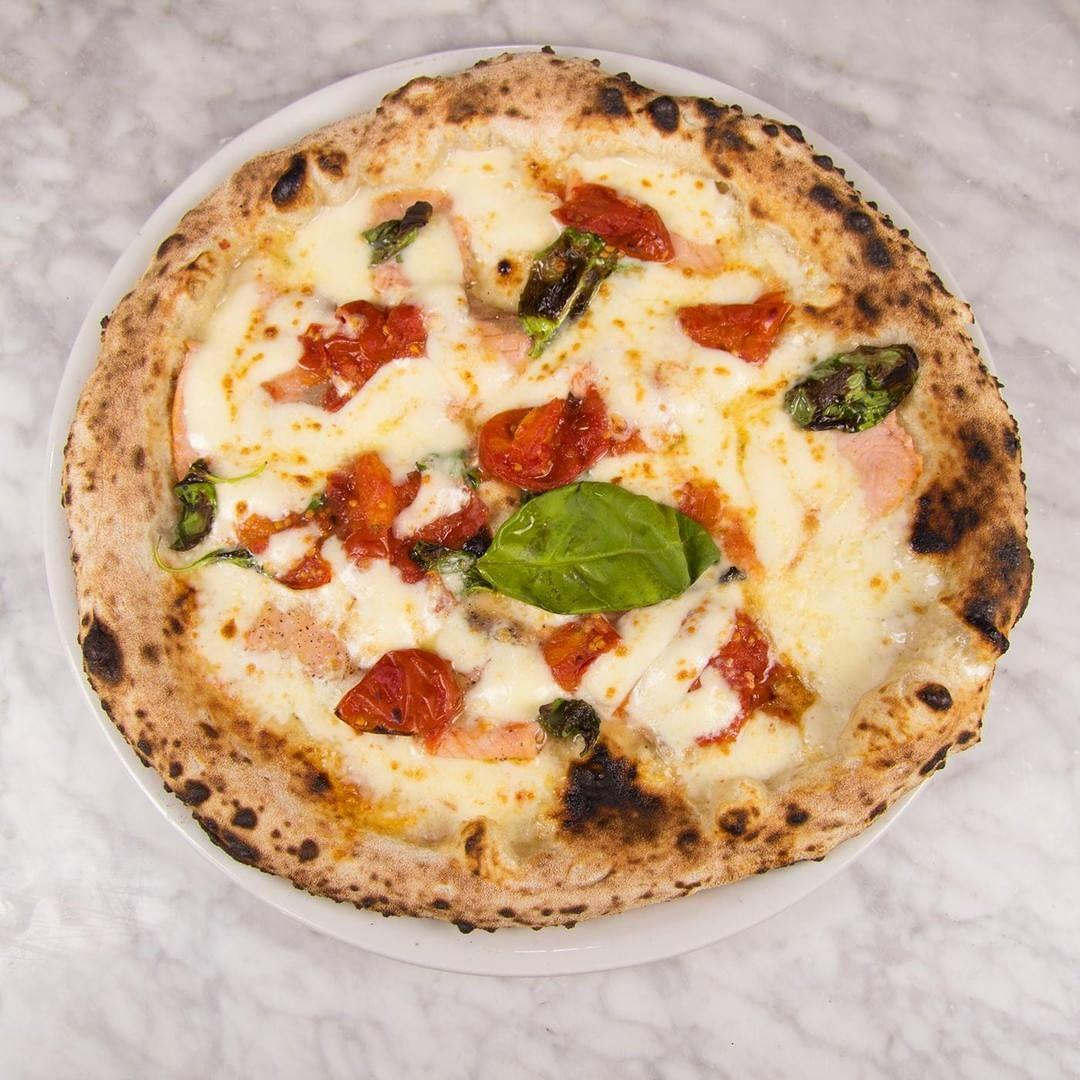Basil: (472, 473, 730, 620), (508, 227, 620, 360), (780, 341, 928, 439), (155, 535, 274, 587), (162, 453, 221, 554), (356, 196, 435, 267)
Pizza: (52, 37, 1043, 948)
Tomatoes: (261, 289, 430, 417), (296, 437, 414, 575), (329, 640, 468, 757), (706, 611, 812, 757), (472, 384, 613, 490), (539, 168, 679, 268), (665, 278, 793, 374), (386, 482, 482, 576), (537, 609, 623, 685), (267, 539, 341, 602), (225, 495, 311, 540)
